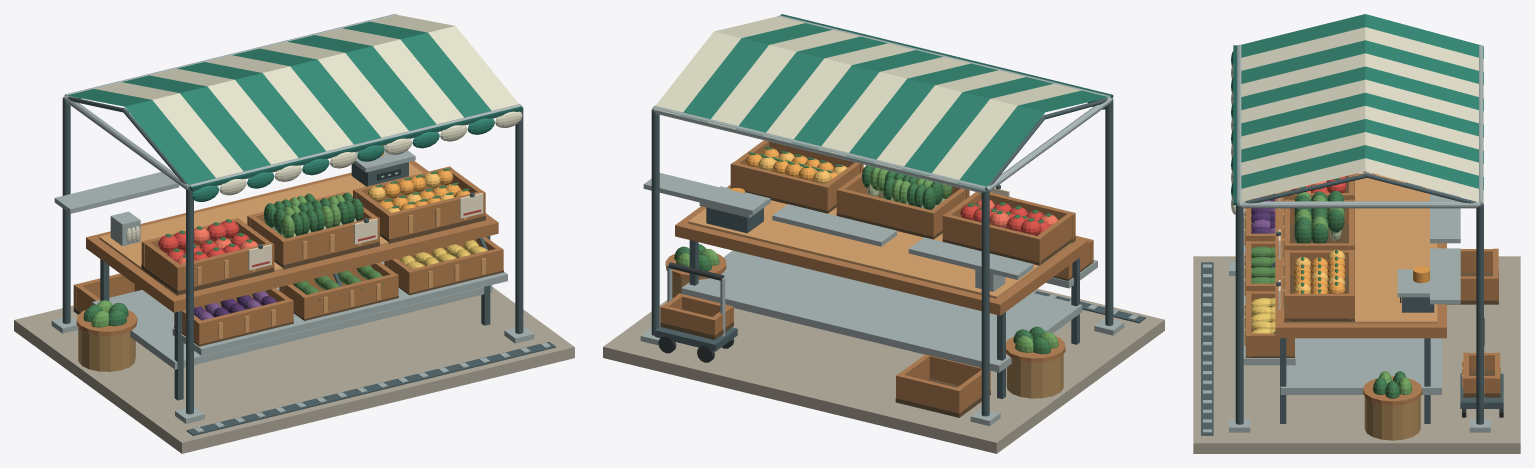
Rendered from hk_market_stall.glb.
The picture shows the model from 3 angles, left to right: view 1: azimuth 30°, elevation 25°; view 2: azimuth 150°, elevation 25°; view 3: azimuth 270°, elevation 25°; orthographic projection. The views are drawn at different scales.
Visible parts, largest first — view 1: worn_narrow_pavement, counter_wood_top, counter_lower_shelf, counter_top_inset, front_stock_rack, front_canopy_panel_00, front_canopy_panel_06, front_canopy_panel_04, front_canopy_panel_10, front_canopy_panel_07, front_canopy_panel_08, front_canopy_panel_01 (+41 smaller); view 2: worn_narrow_pavement, counter_lower_shelf, counter_top_inset, counter_wood_top, top_crossbar_1.45, upper_crate_bok_choy_long_1, upper_crate_citrus_long_1, back_canopy_panel_00, back_canopy_panel_01, back_canopy_panel_02, back_canopy_panel_03, back_canopy_panel_11 (+45 smaller); view 3: worn_narrow_pavement, counter_top_inset, counter_lower_shelf, counter_wood_top, side_basket_2.24, frame_post_2.18_-1.38, top_sidebar_2.18, drain_gutter, rear_shelf_1.75, frame_post_2.18_1.45, front_canopy_panel_01, front_canopy_panel_08 (+47 smaller).
Part boxes in pixels (bbox=[...]): worn_narrow_pavement: bbox=[14, 287, 574, 453]; counter_wood_top: bbox=[86, 161, 498, 312]; counter_lower_shelf: bbox=[92, 261, 492, 369]; counter_top_inset: bbox=[99, 163, 485, 295]; front_stock_rack: bbox=[172, 271, 507, 355]; front_canopy_panel_00: bbox=[125, 100, 215, 186]; front_canopy_panel_06: bbox=[290, 59, 381, 144]; front_canopy_panel_04: bbox=[235, 73, 325, 157]; front_canopy_panel_10: bbox=[400, 32, 491, 117]; front_canopy_panel_07: bbox=[318, 53, 408, 137]; front_canopy_panel_08: bbox=[345, 46, 436, 130]; front_canopy_panel_01: bbox=[152, 93, 243, 177]; worn_narrow_pavement: bbox=[603, 288, 1164, 453]; counter_lower_shelf: bbox=[681, 250, 1082, 372]; counter_top_inset: bbox=[688, 200, 1075, 298]; counter_wood_top: bbox=[675, 185, 1088, 315]; top_crossbar_1.45: bbox=[653, 106, 985, 193]; upper_crate_bok_choy_long_1: bbox=[836, 188, 936, 238]; upper_crate_citrus_long_1: bbox=[730, 162, 830, 211]; back_canopy_panel_00: bbox=[957, 105, 1044, 189]; back_canopy_panel_01: bbox=[929, 99, 1017, 182]; back_canopy_panel_02: bbox=[902, 92, 989, 175]; back_canopy_panel_03: bbox=[874, 85, 962, 169]; back_canopy_panel_11: bbox=[653, 31, 741, 115]; worn_narrow_pavement: bbox=[1193, 256, 1520, 453]; counter_top_inset: bbox=[1285, 175, 1437, 323]; counter_lower_shelf: bbox=[1280, 338, 1441, 394]; counter_wood_top: bbox=[1275, 173, 1446, 338]; side_basket_2.24: bbox=[1364, 397, 1420, 440]; frame_post_2.18_-1.38: bbox=[1235, 204, 1243, 424]; top_sidebar_2.18: bbox=[1239, 201, 1480, 208]; drain_gutter: bbox=[1201, 262, 1213, 435]; rear_shelf_1.75: bbox=[1430, 248, 1460, 304]; frame_post_2.18_1.45: bbox=[1476, 204, 1483, 424]; front_canopy_panel_01: bbox=[1241, 27, 1365, 70]; front_canopy_panel_08: bbox=[1241, 119, 1365, 162].
Bounding box in the file's own units: 5.2 × 3.48 × 3.85.
